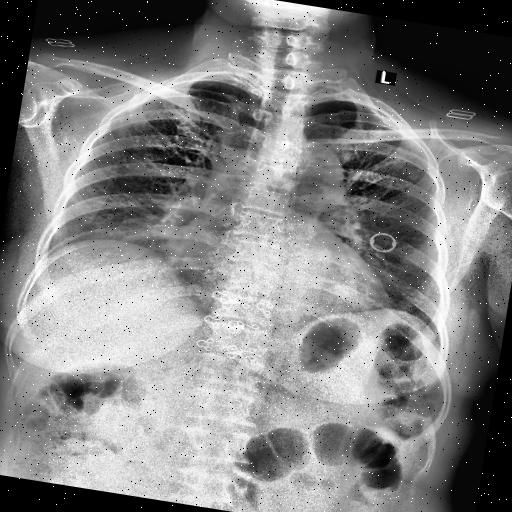0- Aortic enlargement: (264, 133, 352, 212), (267, 136, 352, 214), (288, 137, 352, 214)
3- Cardiomegaly: (154, 217, 401, 319), (156, 224, 408, 323), (158, 232, 398, 334)
